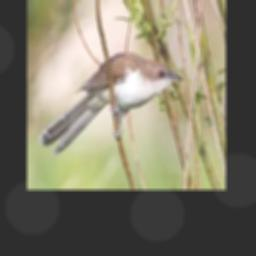Cuckoo: (38, 52, 183, 155)
